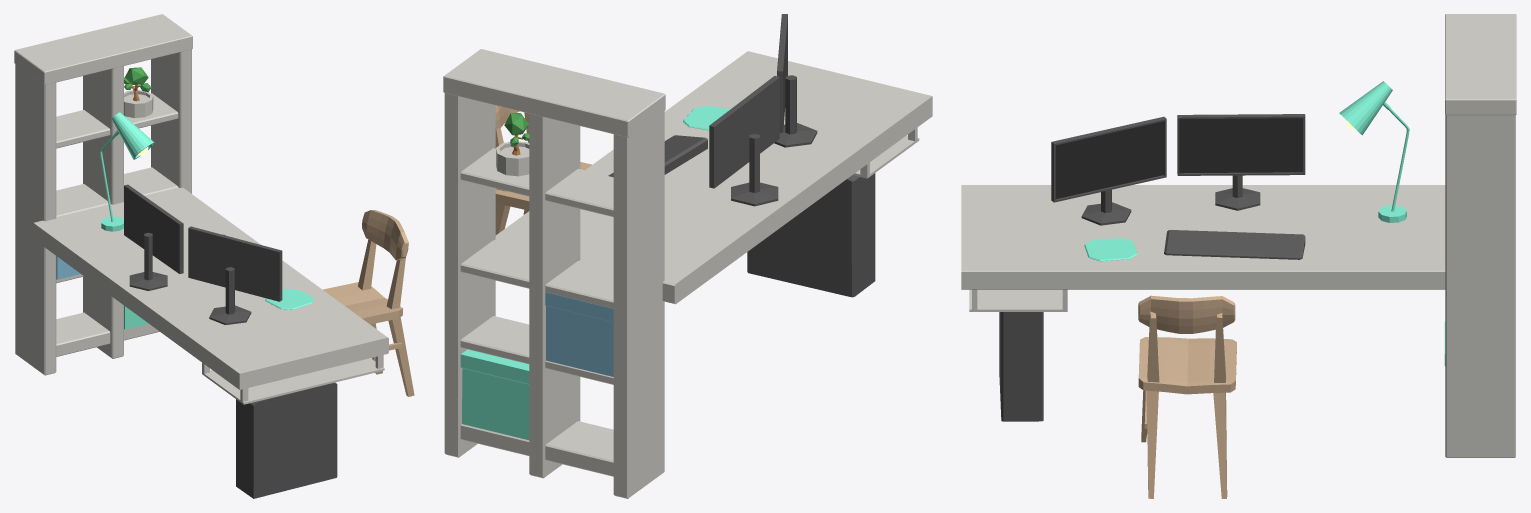
Rendered from deskChair1.glb.
The picture shows the model from 3 angles, left to right: view 1: azimuth 30°, elevation 25°; view 2: azimuth 150°, elevation 25°; view 3: azimuth 270°, elevation 25°; orthographic projection. The views are drawn at different scales.
Parts seen in each view (by area): view 1: pCube138, pCube101, pCube104, pCube160, Mesh12, pCube126, pCube163, pCylinder70, pCylinder51, pCylinder67, pCylinder66, pCube168; view 2: pCube138, pCube101, pCube104, pCube160, pCube139, pCube140, pCylinder51, pCylinder66, pCylinder67, Mesh12, pCube167, pCube168 (+1 smaller); view 3: pCube101, pCube138, pCube160, Mesh12, pCube104, pCube167, pCube163, pCylinder70, pCube126, pCube168, pCylinder67, pCylinder66.
Boxes of the visible parts, x1,y1,x2,y2 form: pCube138: [14, 14, 192, 375]; pCube101: [32, 187, 388, 389]; pCube104: [236, 382, 337, 498]; pCube160: [124, 184, 282, 301]; Mesh12: [323, 239, 414, 396]; pCube126: [204, 358, 384, 404]; pCube163: [362, 210, 408, 260]; pCylinder70: [100, 112, 154, 231]; pCylinder51: [124, 67, 153, 118]; pCylinder67: [209, 267, 251, 324]; pCylinder66: [129, 232, 167, 290]; pCube168: [265, 288, 313, 309]; pCube138: [443, 49, 665, 498]; pCube101: [494, 51, 932, 304]; pCube104: [747, 173, 875, 297]; pCube160: [709, 14, 787, 188]; pCube139: [460, 349, 529, 440]; pCube140: [545, 292, 613, 376]; pCylinder51: [496, 113, 529, 176]; pCylinder66: [731, 133, 778, 206]; pCylinder67: [774, 75, 817, 147]; Mesh12: [495, 112, 591, 235]; pCube167: [608, 135, 707, 177]; pCube168: [683, 105, 729, 130]; pCube101: [961, 185, 1445, 289]; pCube138: [1445, 14, 1516, 457]; pCube160: [1051, 114, 1305, 202]; Mesh12: [1138, 311, 1236, 498]; pCube104: [999, 312, 1043, 421]; pCube167: [1164, 230, 1305, 259]; pCube163: [1138, 295, 1235, 333]; pCylinder70: [1339, 81, 1409, 222]; pCube126: [969, 289, 1062, 311]; pCube168: [1084, 238, 1137, 261]; pCylinder67: [1081, 189, 1131, 225]; pCylinder66: [1215, 175, 1260, 210].
Size of the model in its own units: 0.3827 by 0.4379 by 0.6129.
